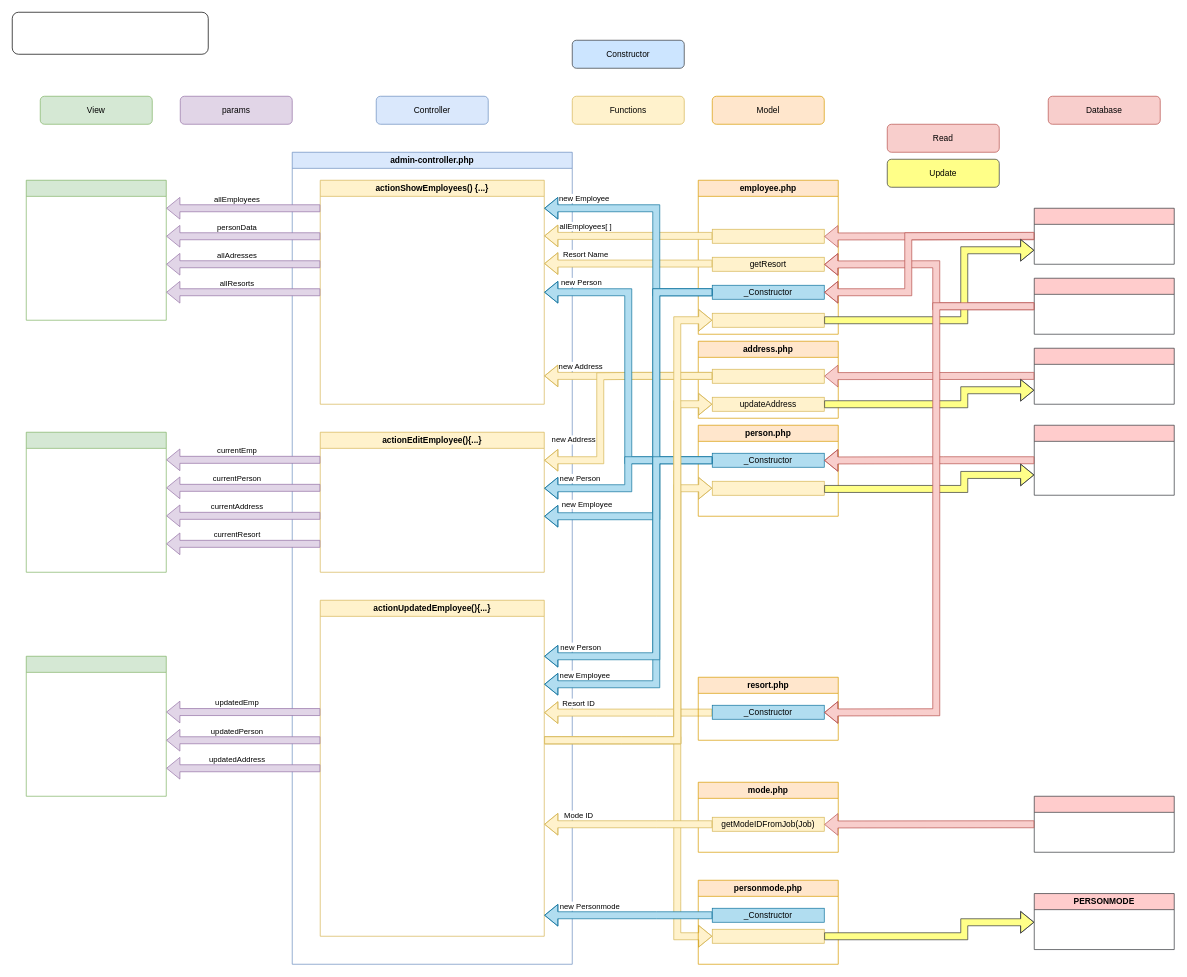
Image size: 1187x977. Some labels were removed from this diagram. The shapes that lost their labels are listed below. From the top down, each one's centre as x and y in pixels, then its label:
At point 110,33: "MVC - Admin".
At point 96,250: "showEmployee.php".
At point 768,236: "getAllEmployees()".
At point 1104,236: "EMP".
At point 768,320: "updateEmp".
At point 1104,306: "RESORT".
At point 768,376: "findPersonByID(PersonID)".
At point 1104,376: "ADDR".
At point 1104,460: "PERSON".
At point 96,502: "editEmployee.php".
At point 768,488: "updatePerson".
At point 96,726: "updatedEmployee.php".
At point 1104,824: "MODE".
At point 768,936: "updateModeID".
